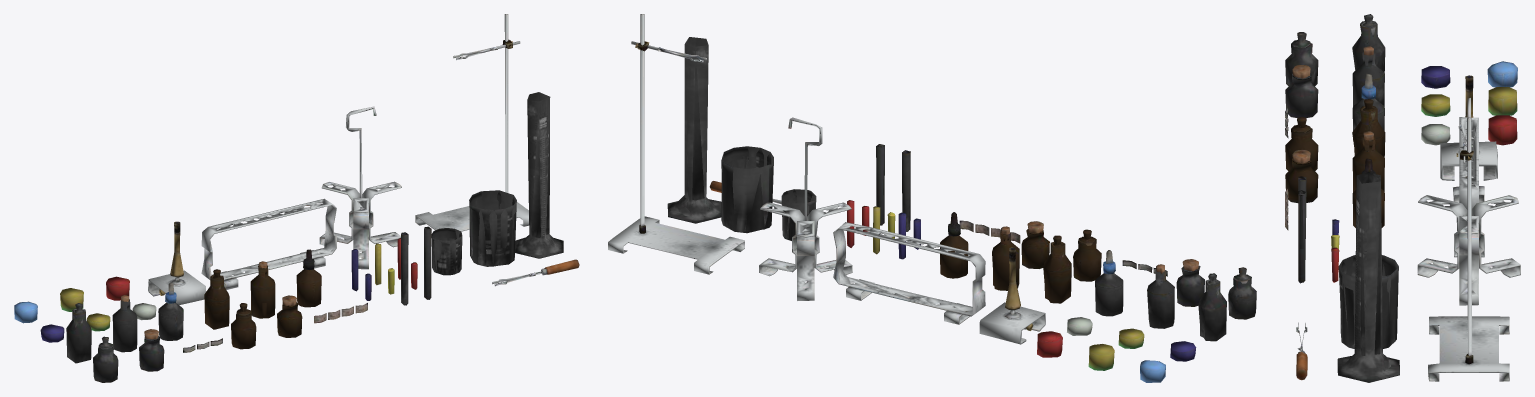
Rendered from chemistry_set.glb.
3 views of the same model, side by side, from view 1: azimuth 30°, elevation 25°; view 2: azimuth 150°, elevation 25°; view 3: azimuth 270°, elevation 25° (orthographic). The views are drawn at different scales.
Parts seen in each view (by area): view 1: chemistry_set_beaker_large, chemistry_set_beaker_med, chemistry_set_test_tube_stand_a, chemistry_set_test_tube_stand_b, chemistry_set_clamp_stand, chemistry_set_bunsen_burner, chemistry_set_beaker_small, chemistry_set_bottle_clear_c, chemistry_set_bottle_dark_c, chemistry_set_bottle_dark_d, chemistry_set_bottle_clear_d, chemistry_set_bottle_clear_e (+9 smaller); view 2: chemistry_set_beaker_large, chemistry_set_clamp_stand, chemistry_set_test_tube_stand_a, chemistry_set_beaker_med, chemistry_set_test_tube_stand_b, chemistry_set_bunsen_burner, chemistry_set_bottle_dark_c, chemistry_set_bottle_clear_c, chemistry_set_bottle_clear_d, chemistry_set_bottle_clear_e, chemistry_set_bottle_dark_d, chemistry_set_bottle_clear_a (+10 smaller); view 3: chemistry_set_beaker_large, chemistry_set_clamp_stand, chemistry_set_test_tube_stand_b, chemistry_set_beaker_med, chemistry_set_bunsen_burner, chemistry_set_test_tube_stand_a, chemistry_set_bottle_clear_b, chemistry_set_bottle_clear_d, chemistry_set_bottle_dark_b, chemistry_set_bottle_dark_c, chemistry_set_bottle_clear_c, chemistry_set_bottle_dark_d (+16 smaller).
Part boxes in pixels (x1,y1,x2,y2): chemistry_set_beaker_large: (515, 92, 563, 258); chemistry_set_beaker_med: (469, 190, 516, 266); chemistry_set_test_tube_stand_a: (201, 198, 336, 289); chemistry_set_test_tube_stand_b: (319, 106, 401, 269); chemistry_set_clamp_stand: (415, 14, 529, 231); chemistry_set_bunsen_burner: (148, 221, 206, 305); chemistry_set_beaker_small: (431, 228, 462, 275); chemistry_set_bottle_clear_c: (66, 308, 91, 363); chemistry_set_bottle_dark_c: (204, 274, 229, 329); chemistry_set_bottle_dark_d: (250, 265, 275, 318); chemistry_set_bottle_clear_d: (112, 299, 137, 352); chemistry_set_bottle_clear_e: (158, 302, 183, 340); chemistry_set_beaker_large: (667, 37, 721, 223); chemistry_set_clamp_stand: (608, 14, 744, 274); chemistry_set_test_tube_stand_a: (833, 222, 985, 324); chemistry_set_beaker_med: (721, 146, 773, 233); chemistry_set_test_tube_stand_b: (759, 117, 852, 300); chemistry_set_bunsen_burner: (979, 247, 1045, 344); chemistry_set_bottle_dark_c: (1043, 241, 1071, 303); chemistry_set_bottle_clear_c: (1198, 279, 1226, 341); chemistry_set_bottle_clear_d: (1147, 269, 1174, 328); chemistry_set_bottle_clear_e: (1095, 272, 1123, 316); chemistry_set_bottle_dark_d: (992, 231, 1019, 290); chemistry_set_bottle_clear_a: (1228, 274, 1256, 319); chemistry_set_beaker_large: (1337, 172, 1399, 382); chemistry_set_clamp_stand: (1428, 117, 1509, 381); chemistry_set_test_tube_stand_b: (1417, 98, 1520, 305); chemistry_set_beaker_med: (1338, 255, 1398, 348); chemistry_set_bunsen_burner: (1440, 75, 1497, 180); chemistry_set_test_tube_stand_a: (1453, 117, 1484, 257); chemistry_set_bottle_clear_b: (1285, 73, 1318, 118); chemistry_set_bottle_clear_d: (1352, 52, 1384, 106); chemistry_set_bottle_dark_b: (1285, 158, 1318, 202); chemistry_set_bottle_dark_c: (1352, 106, 1385, 157); chemistry_set_bottle_clear_c: (1352, 21, 1385, 72); chemistry_set_bottle_dark_d: (1352, 136, 1384, 192).
Bounding box in the file's own units: 1.08 × 0.4275 × 0.3521.
Materials: 2 (2 with a texture image).
